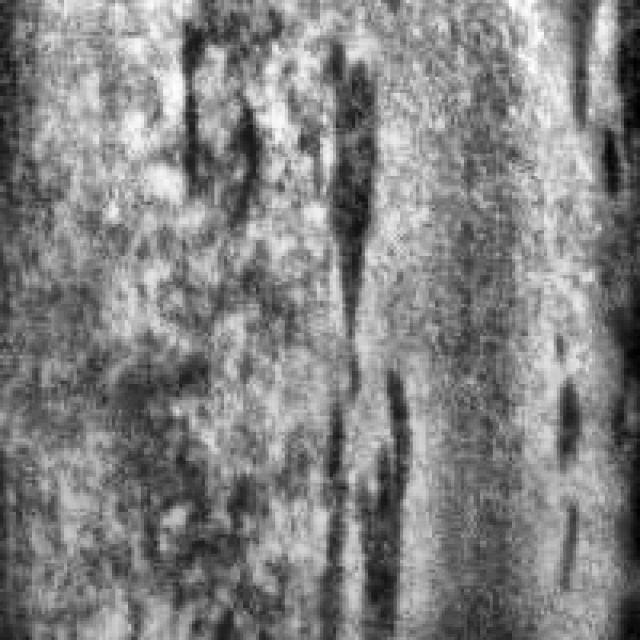Patches: (294, 16, 413, 627), (512, 316, 598, 596), (166, 9, 272, 230), (544, 0, 634, 202)
